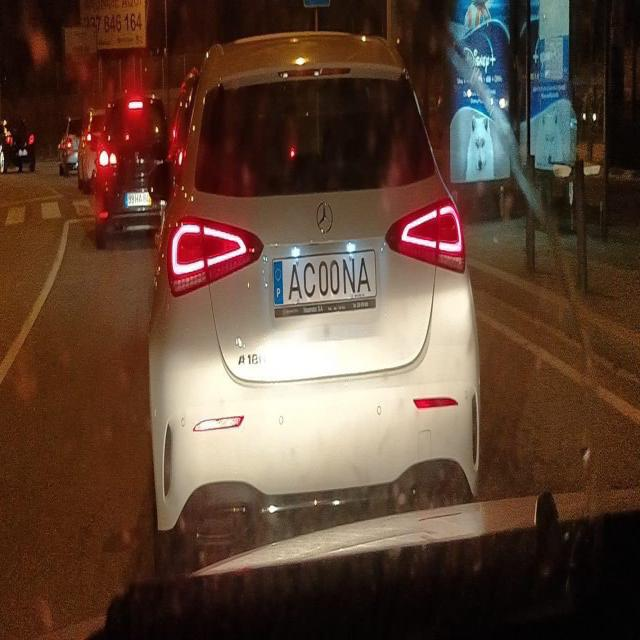portuguese-license-plates: (270, 244, 383, 326)
